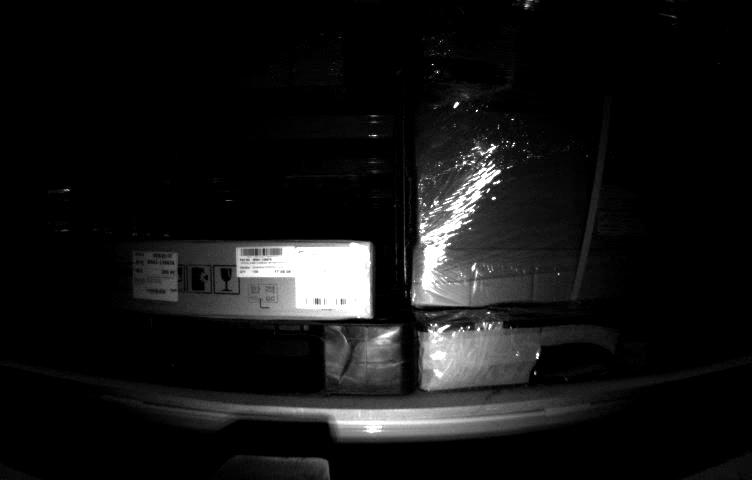True Barcode: (129, 248, 181, 306)
